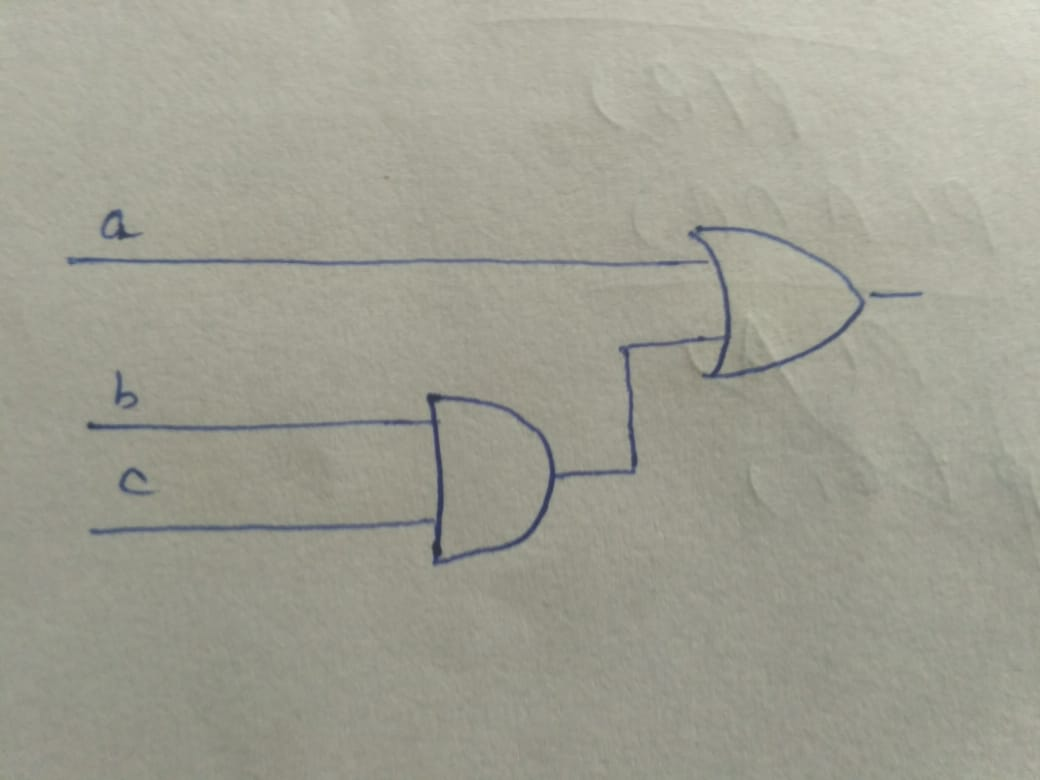and: (384, 371, 596, 602)
or: (664, 196, 892, 423)
